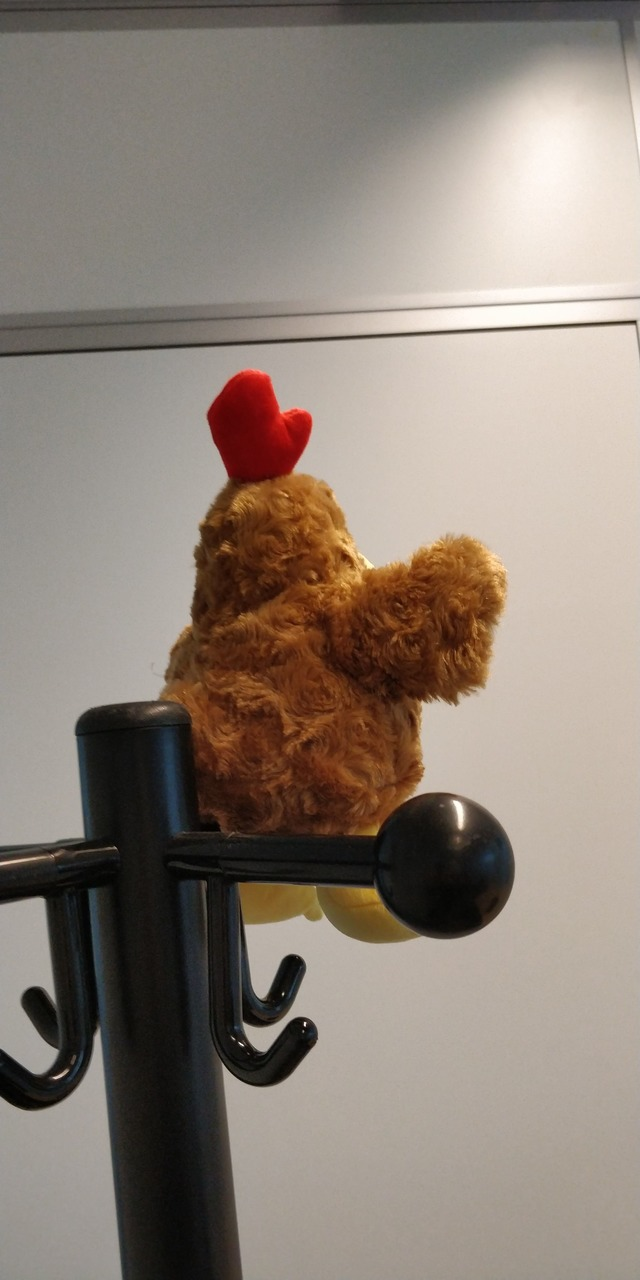fakeChicken: (154, 367, 508, 942)
